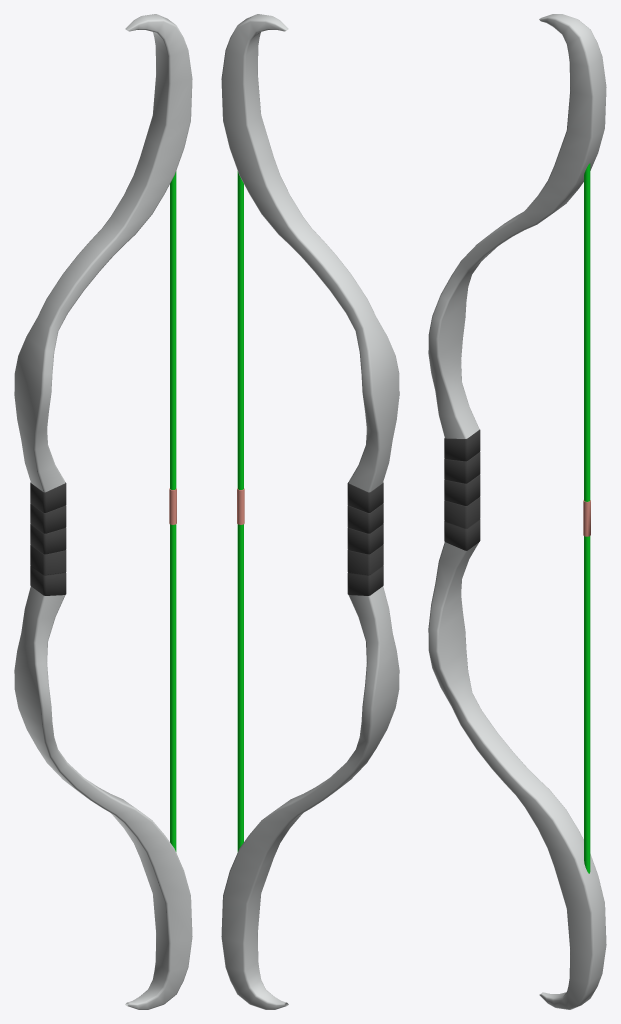
Rendered from bow_test.fbx.
3 renders of one model, left to right at view 1: azimuth 30°, elevation 25°; view 2: azimuth 150°, elevation 25°; view 3: azimuth 330°, elevation 25°, orthographic.
Parts seen in each view (by area): view 1: bow_3_2; view 2: bow_3_2; view 3: bow_3_2.
Part boxes in pixels (x1,y1,x2,y2): bow_3_2: (14, 14, 192, 1009); bow_3_2: (221, 14, 399, 1009); bow_3_2: (428, 14, 606, 1009).
Bounding box in the file's own units: 23.64 × 139 × 7.27.
